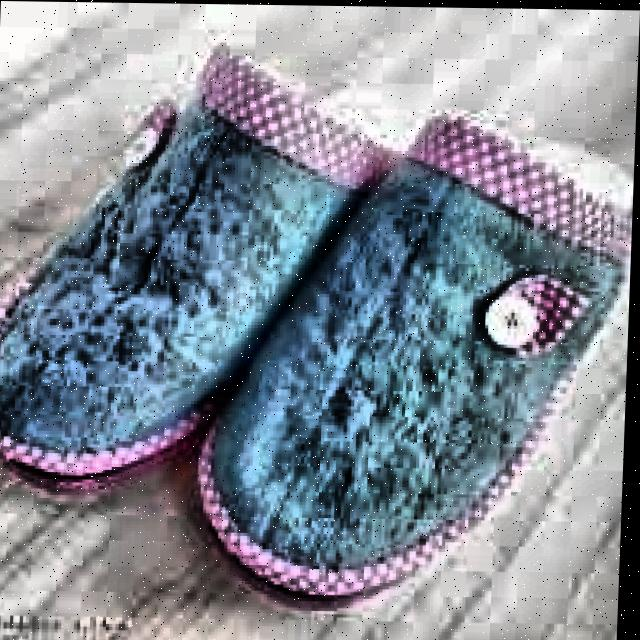shoes: (0, 14, 639, 606)
